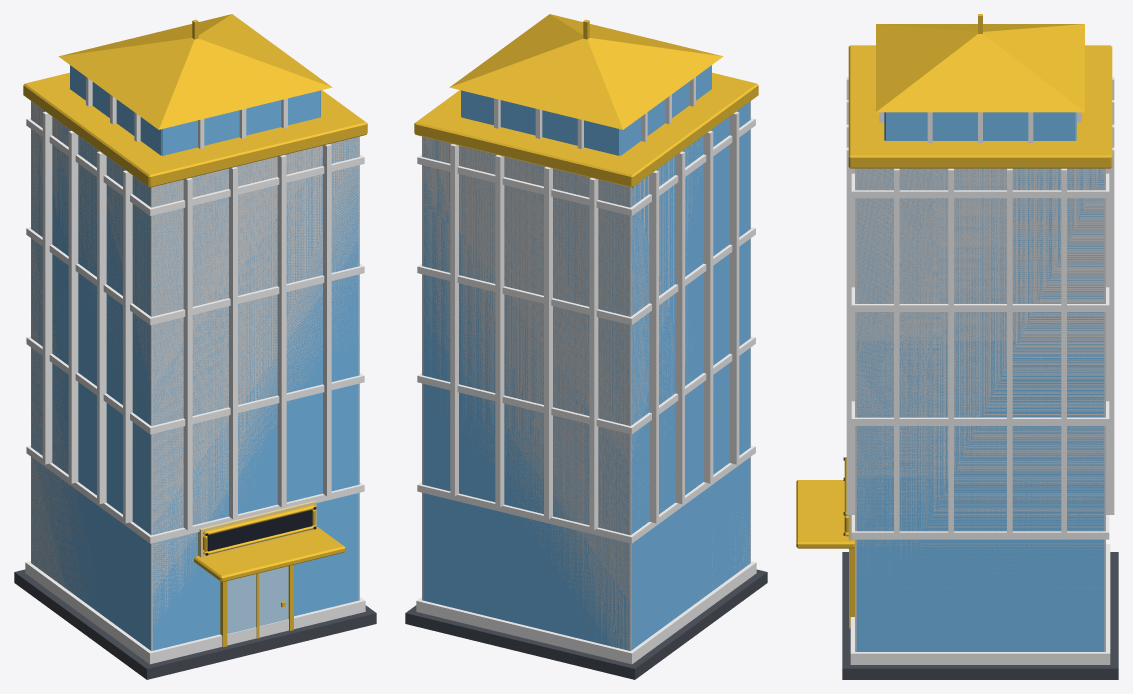
The model's file is investors.glb.
3 views of the same model, side by side, from view 1: azimuth 30°, elevation 25°; view 2: azimuth 150°, elevation 25°; view 3: azimuth 270°, elevation 25° (orthographic). The views are drawn at different scales.
Parts seen in each view (by area): view 1: investors, COL_body, sign_frame, sign_board; view 2: investors, COL_body; view 3: investors, COL_body.
Boxes of the visible parts, x1=… form: investors: x1=14, y1=14, x2=376, y2=679; COL_body: x1=31, y1=101, x2=359, y2=650; sign_frame: x1=198, y1=501, x2=316, y2=557; sign_board: x1=207, y1=510, x2=312, y2=551; investors: x1=405, y1=14, x2=767, y2=679; COL_body: x1=422, y1=101, x2=750, y2=650; investors: x1=796, y1=14, x2=1118, y2=679; COL_body: x1=855, y1=168, x2=1105, y2=651.
Size of the model in its own units: 6.6 by 16 by 7.7.
